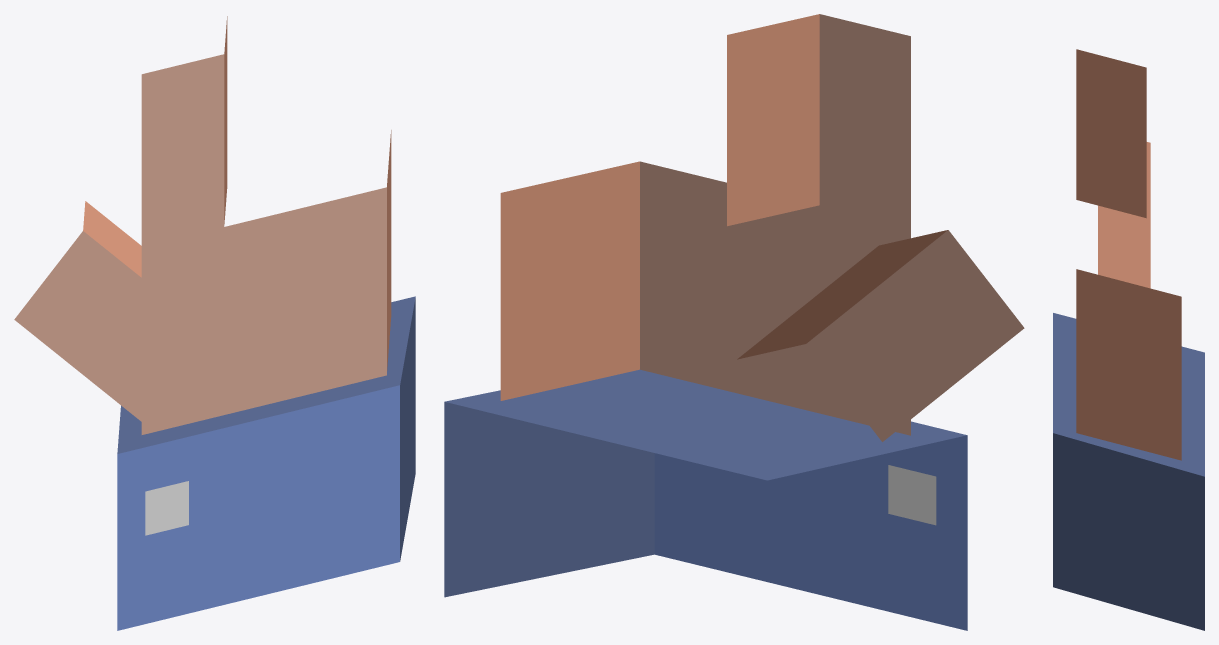
The model's file is Tutorial_Object_01_R@Touch.FBX.
3 renders of one model, left to right at view 1: azimuth 30°, elevation 25°; view 2: azimuth 150°, elevation 25°; view 3: azimuth 270°, elevation 25°, orthographic. The views are drawn at different scales.
Visible parts, largest first — view 1: Tutorial_Object_01_R; view 2: Tutorial_Object_01_R; view 3: Tutorial_Object_01_R.
Boxes of the visible parts, x1,y1,x2,y2 form: Tutorial_Object_01_R: (14,16,415,630); Tutorial_Object_01_R: (444,14,1024,630); Tutorial_Object_01_R: (1053,49,1204,630).
Size of the model in its own units: 7.98 by 8.86 by 2.6.
